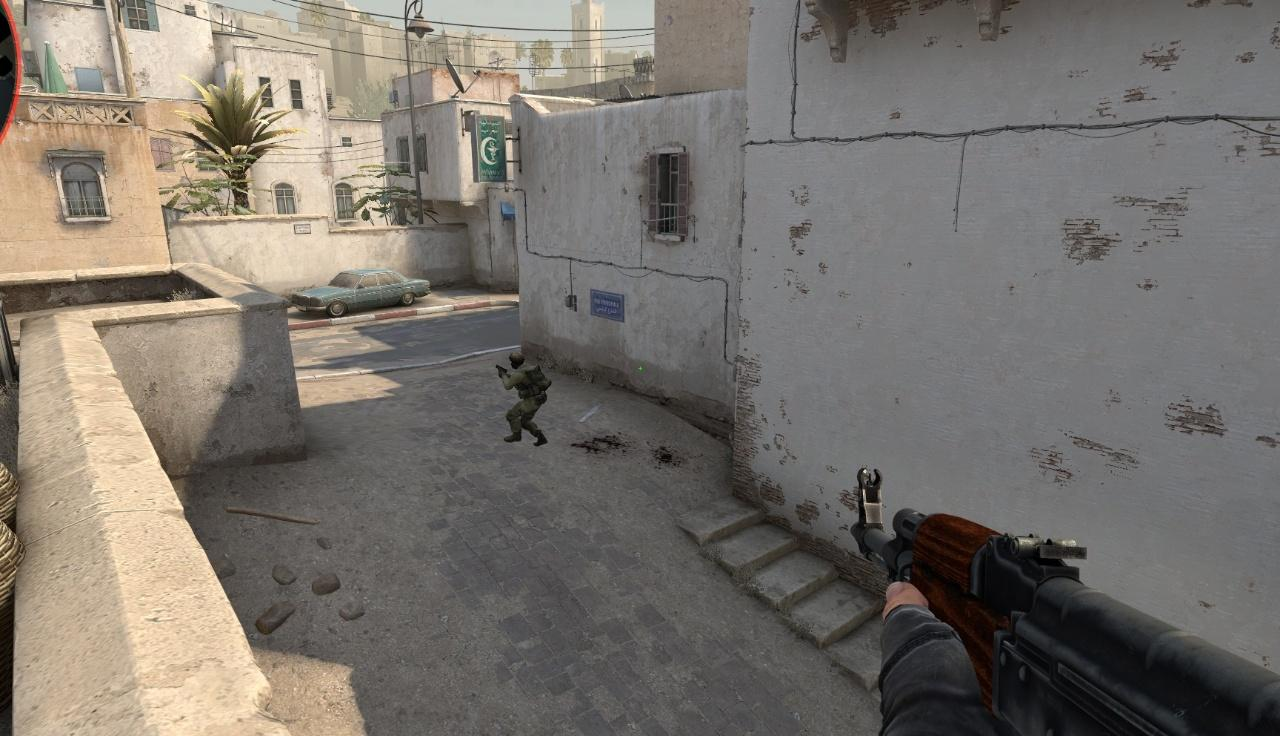ct: (505, 353, 545, 443)
cthead: (511, 353, 524, 371)
rifle: (851, 467, 1280, 736)
